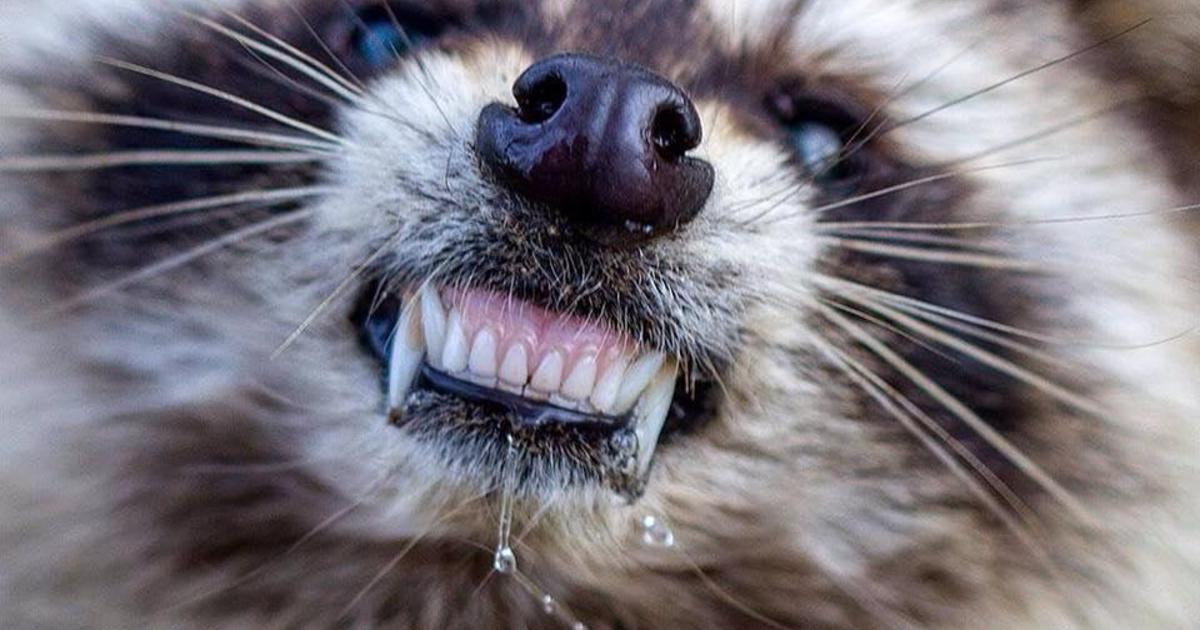raccoon: (89, 11, 1091, 630)
